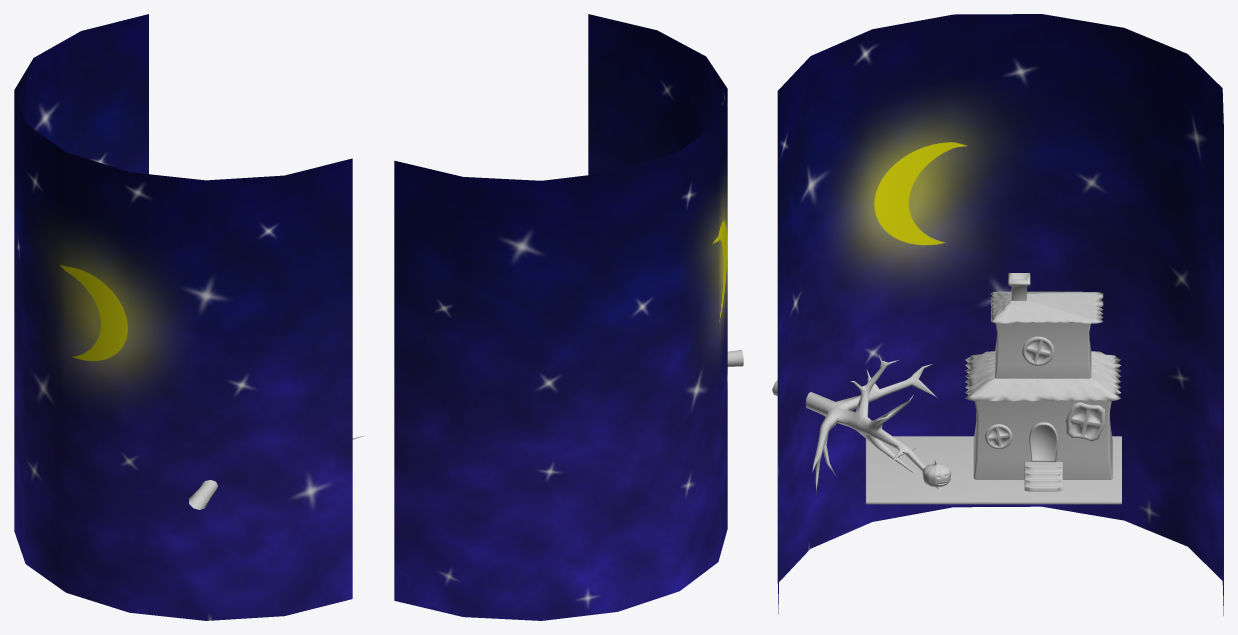
The model's file is casa.obj.
The picture shows the model from 3 angles, left to right: view 1: azimuth 30°, elevation 25°; view 2: azimuth 150°, elevation 25°; view 3: azimuth 270°, elevation 25°; orthographic projection. The views are drawn at different scales.
Visible parts, largest first — view 1: Cylinder, Cube_001; view 2: Cylinder; view 3: Cylinder, Cube_001.
Part boxes in pixels (left/top/right/bottom): Cylinder: left=14, top=14, right=352, bottom=620; Cube_001: left=189, top=435, right=364, bottom=509; Cylinder: left=394, top=14, right=727, bottom=620; Cylinder: left=777, top=14, right=1223, bottom=615; Cube_001: left=772, top=273, right=1121, bottom=505.
Bounding box in the file's own units: 20.25 × 35.91 × 29.84.
